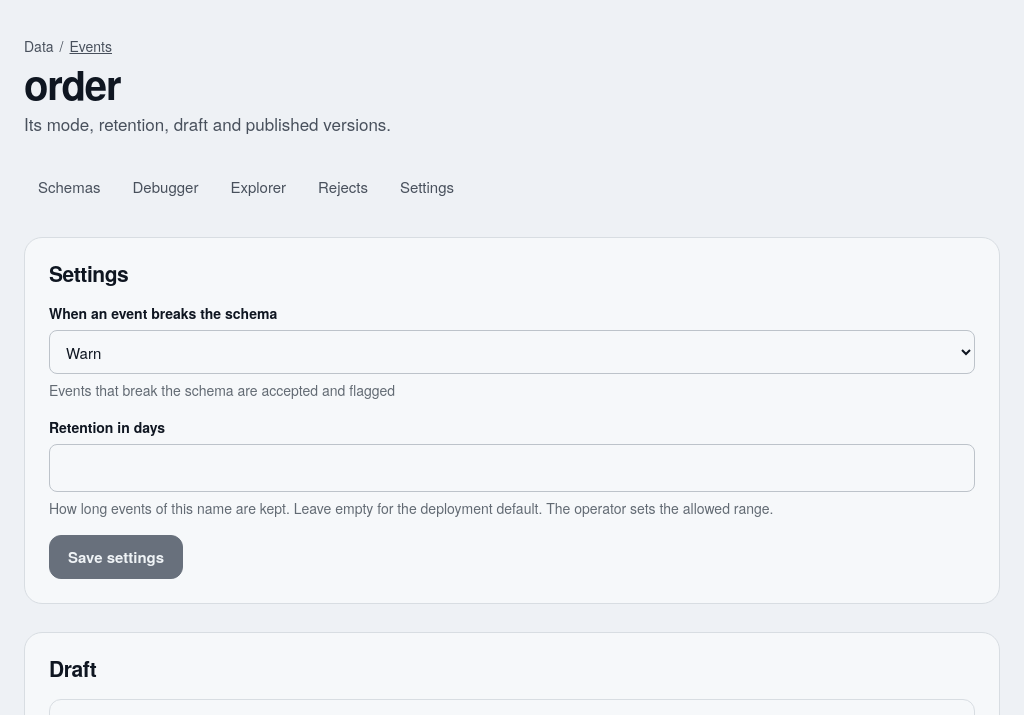
event schema › shows the server's reason when the retention is outside the operator's bounds
Type "5" into the number field labelled "Retention in days" at {"x": 512, "y": 468}, box [49,444,975,492]
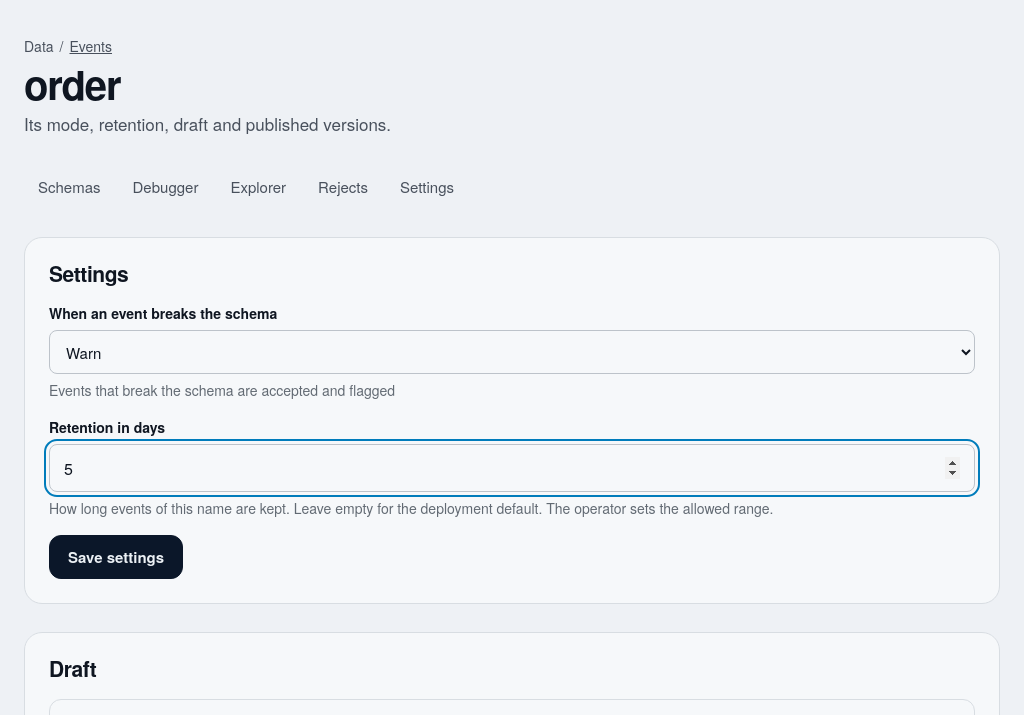
Click the button "Save settings" at {"x": 116, "y": 557}, box [49,535,183,579]
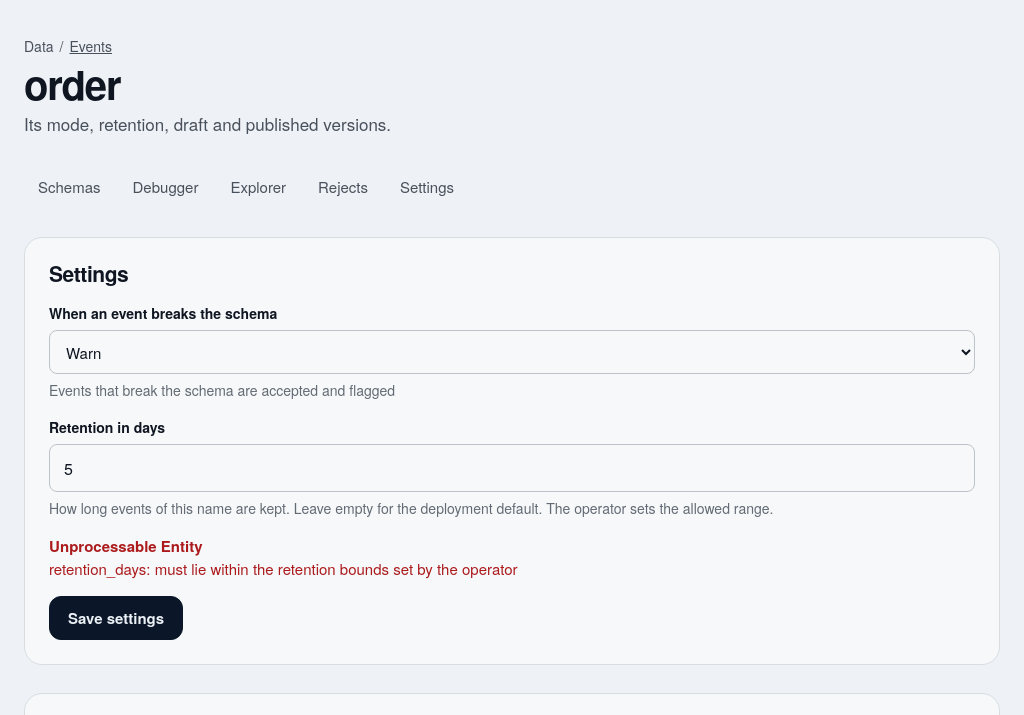
Expected: the text "must lie within the retention bounds" is shown, [49,558,518,579]
